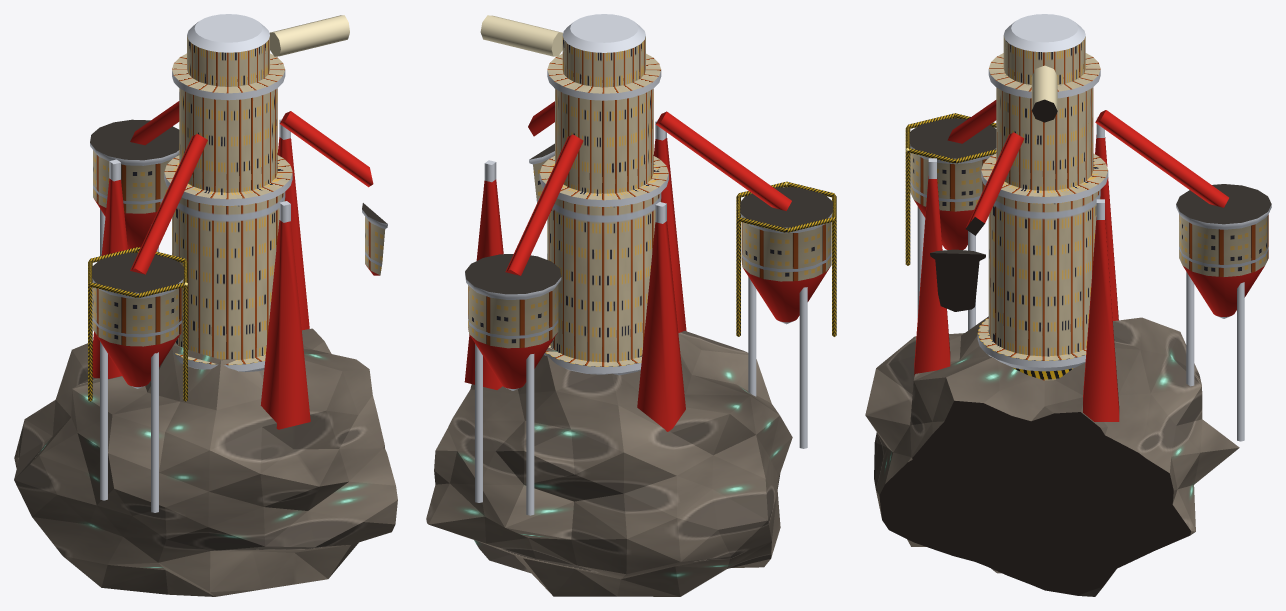
File: mining_facility_build3_debris1.obj
The picture shows the model from 3 angles, left to right: view 1: azimuth 30°, elevation 25°; view 2: azimuth 150°, elevation 25°; view 3: azimuth 270°, elevation 25°; orthographic projection.
Visible parts, largest first — view 1: rock, tower, hopper, derrick, conveyor, leg, dock_arm, post, girder; view 2: rock, tower, hopper, derrick, conveyor, leg, dock_arm, post, girder; view 3: rock, tower, hopper, derrick, conveyor, leg, dock_arm, girder, post.
Part boxes in pixels (box(x1,y1,x2,y2)): rock: box(14, 328, 397, 596); tower: box(164, 14, 292, 372); hopper: box(90, 119, 387, 388); derrick: box(92, 119, 310, 429); conveyor: box(130, 101, 373, 274); leg: box(100, 209, 158, 512); dock_arm: box(269, 15, 349, 56); post: box(88, 250, 187, 401); girder: box(88, 247, 187, 297); rock: box(426, 331, 792, 596); tower: box(539, 14, 668, 375); hopper: box(465, 143, 832, 390); derrick: box(464, 120, 686, 431); conveyor: box(505, 101, 791, 275); leg: box(475, 277, 807, 515); dock_arm: box(480, 15, 562, 56); post: box(736, 185, 836, 336); girder: box(736, 181, 836, 232); rock: box(865, 316, 1239, 596); tower: box(977, 14, 1108, 380); hopper: box(909, 118, 1271, 318); derrick: box(914, 117, 1119, 421); conveyor: box(947, 100, 1228, 235); leg: box(917, 206, 1244, 441); dock_arm: box(1031, 65, 1057, 122); girder: box(905, 113, 996, 163); post: box(905, 116, 955, 265).
Size of the model in its own units: 93.37 by 160 by 109.
9 materials, 3 textured.
